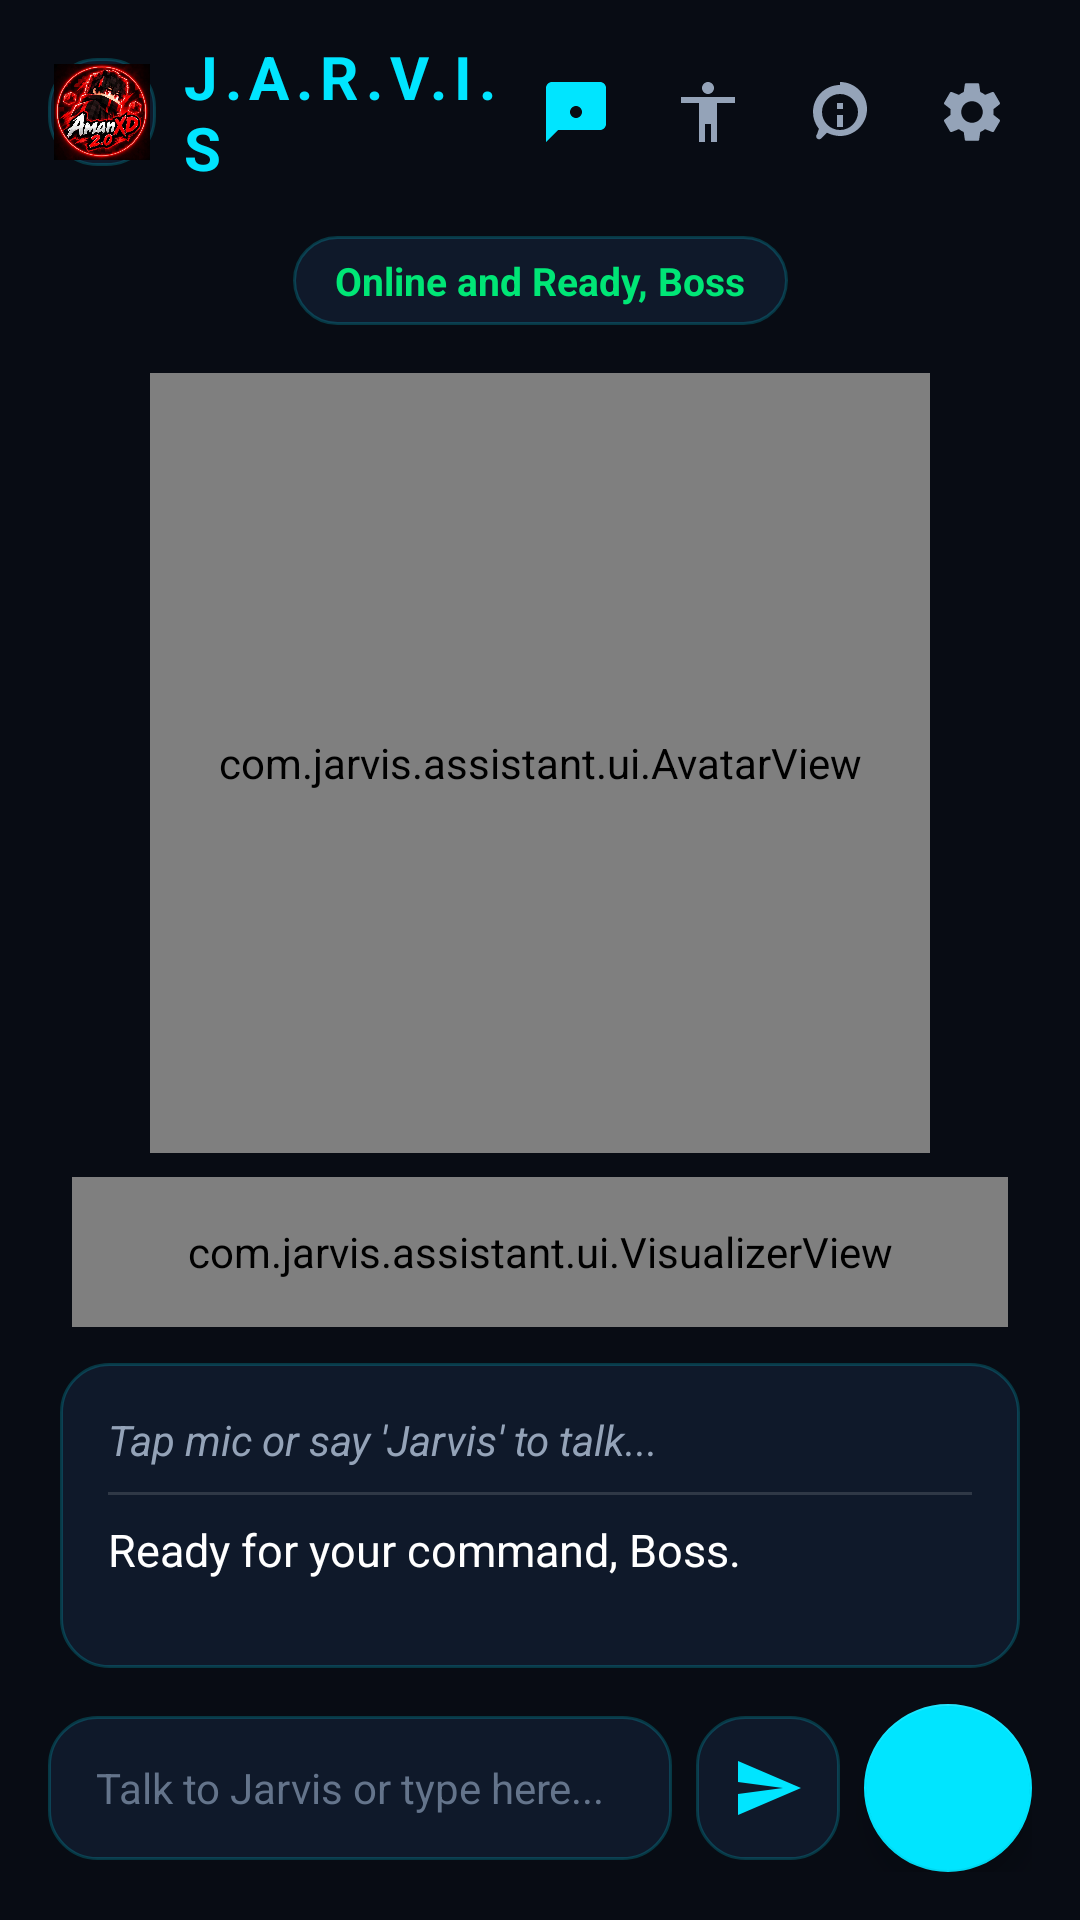

Locate icon controls on the screen. Image size 1080x1920, boxes as (x1, y1, x2, y2).
Accessibility Service: (681, 82, 735, 142)
Floating Bubble Overlay: (546, 82, 606, 142)
Send: (696, 1716, 840, 1860)
Settings: (944, 83, 1000, 141)
